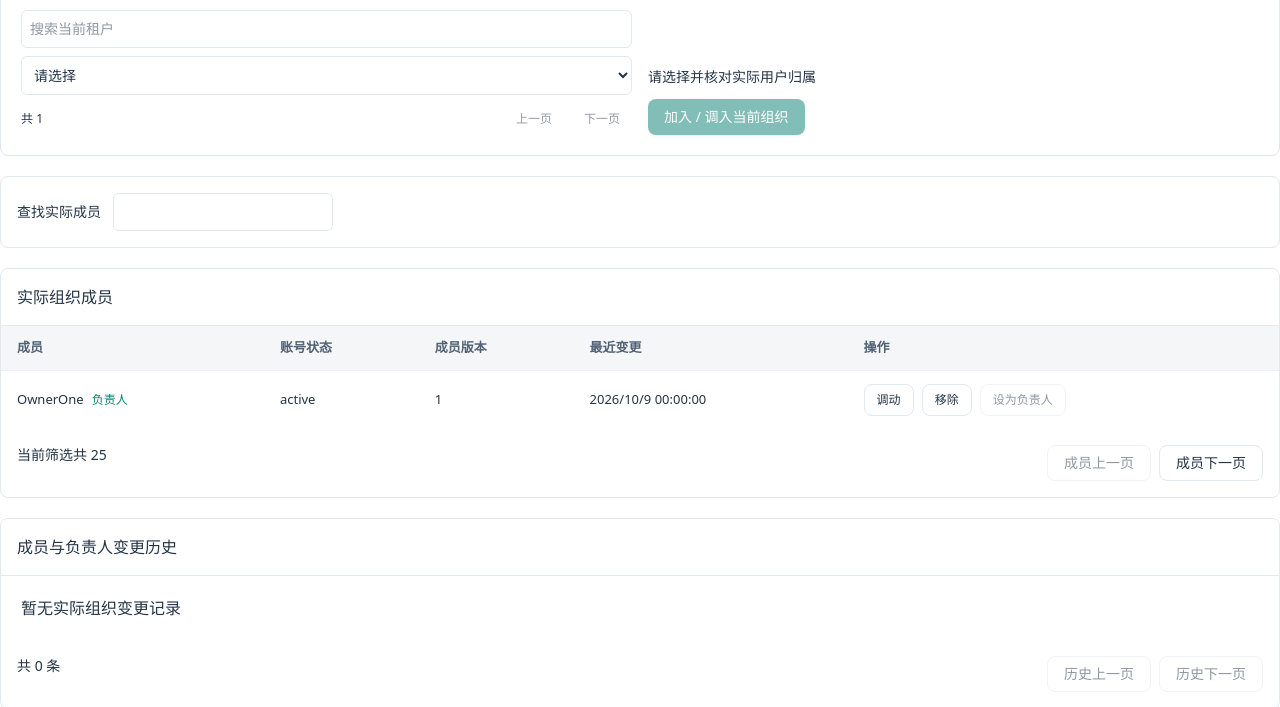
organization member workflows › uses actual filtered pagination and hides cached membership after a failed refresh
(page scrolled)
Check: the cell "OwnerOne" is shown, box [1,370,264,428]
What coordinates should you click on to do the following:
click the button "成员下一页"
I would click on:
 (1211, 462)
Its box is [1159,444,1263,480].
(page scrolled)
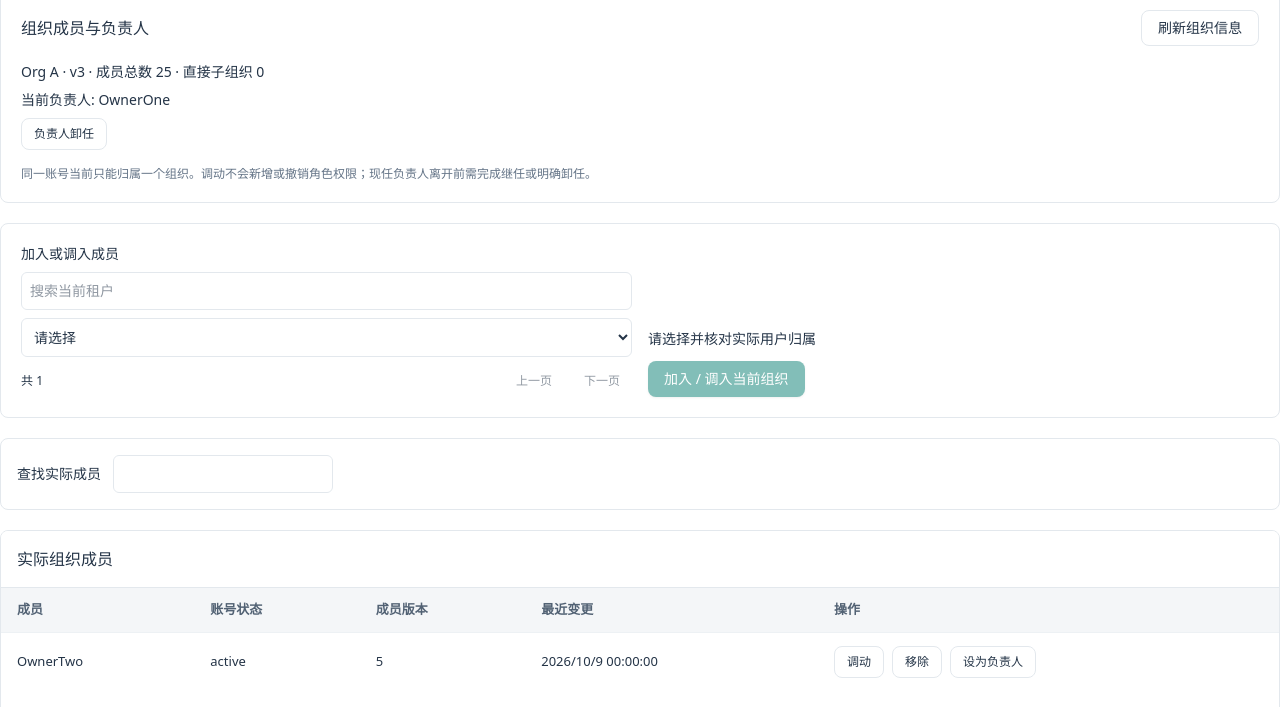
Check: the cell "OwnerTwo" is shown, box [1,632,194,690]
What coordinates should you click on to do the following:
click the button "刷新组织信息"
I would click on:
 (1200, 28)
Its box is [1141,10,1259,46].
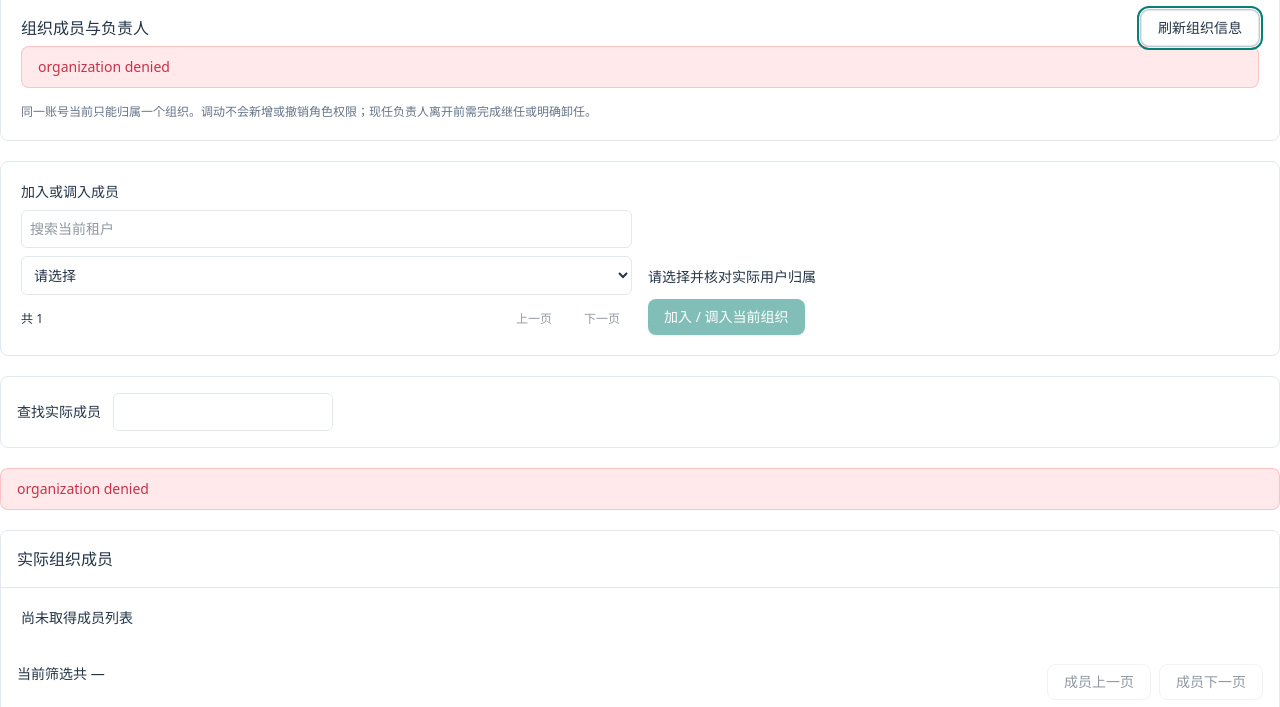
Check: the cell "OwnerTwo" is gone
Check: the button "移除" is gone
